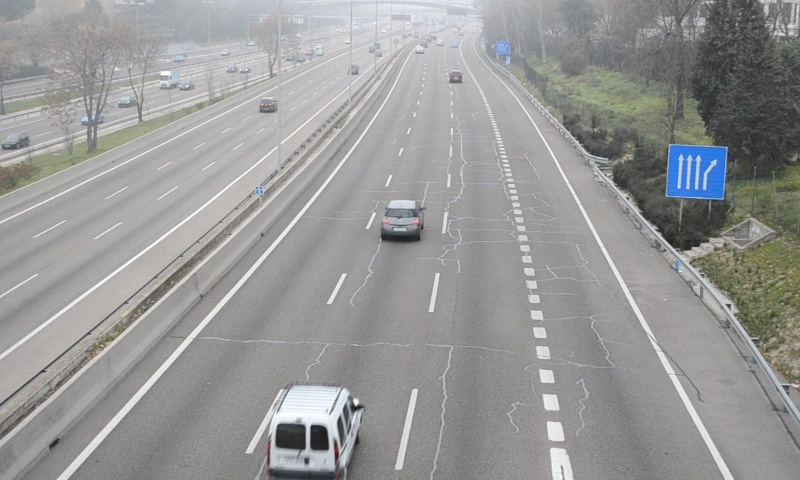car: (381, 198, 423, 237), (450, 69, 463, 84)
van: (266, 384, 363, 480)
